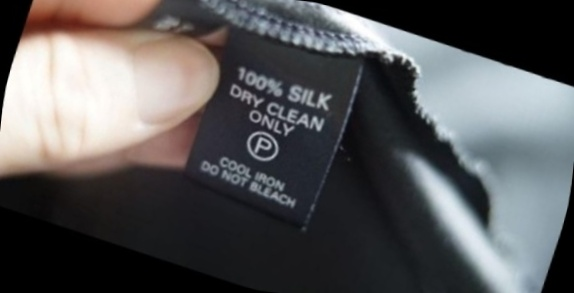dry_clean_any_solvent_except_trichloroethylene: (239, 122, 289, 170)
